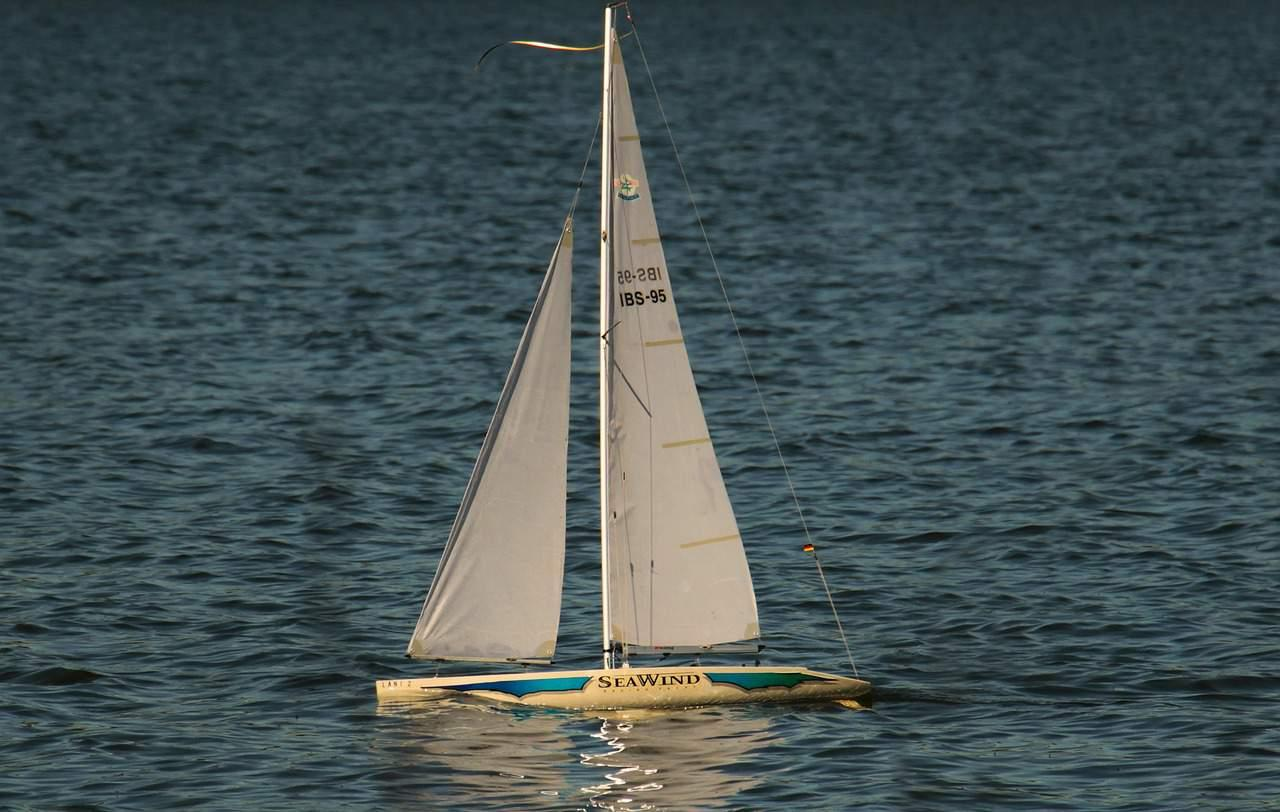Ship: (362, 2, 873, 718)
